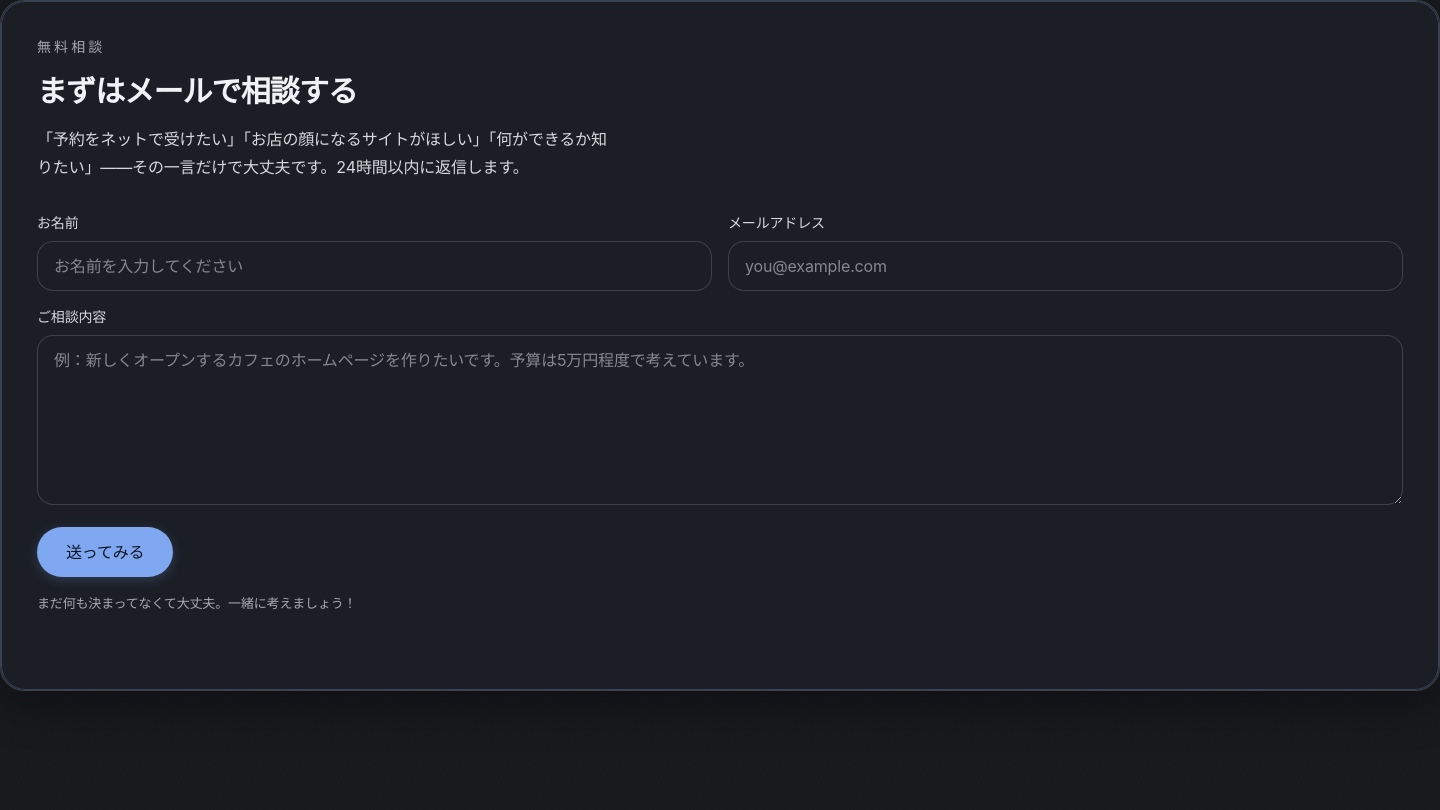
Test: ContactForm › Succesffully sent bolson uyd API ruu aguulgiig uvuulj , Success message haruulj baigaa eseh.
Type "山田太郎" into the field labelled "お名前" at coordinates (374, 266), box x1=37 y1=241 x2=712 y2=291
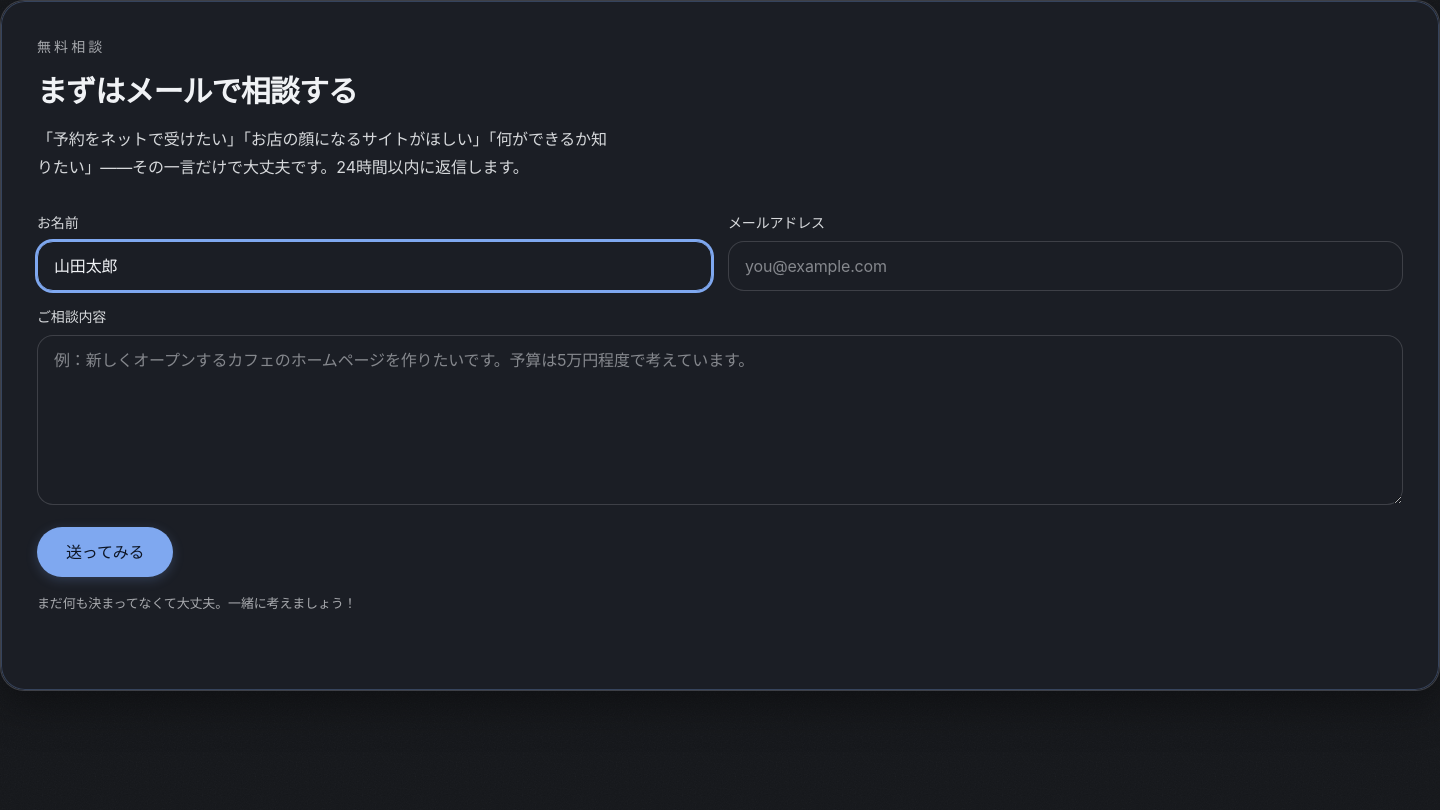
Type "test@example.com" into the field labelled "メールアドレス" at coordinates (1066, 266), box x1=728 y1=241 x2=1403 y2=291
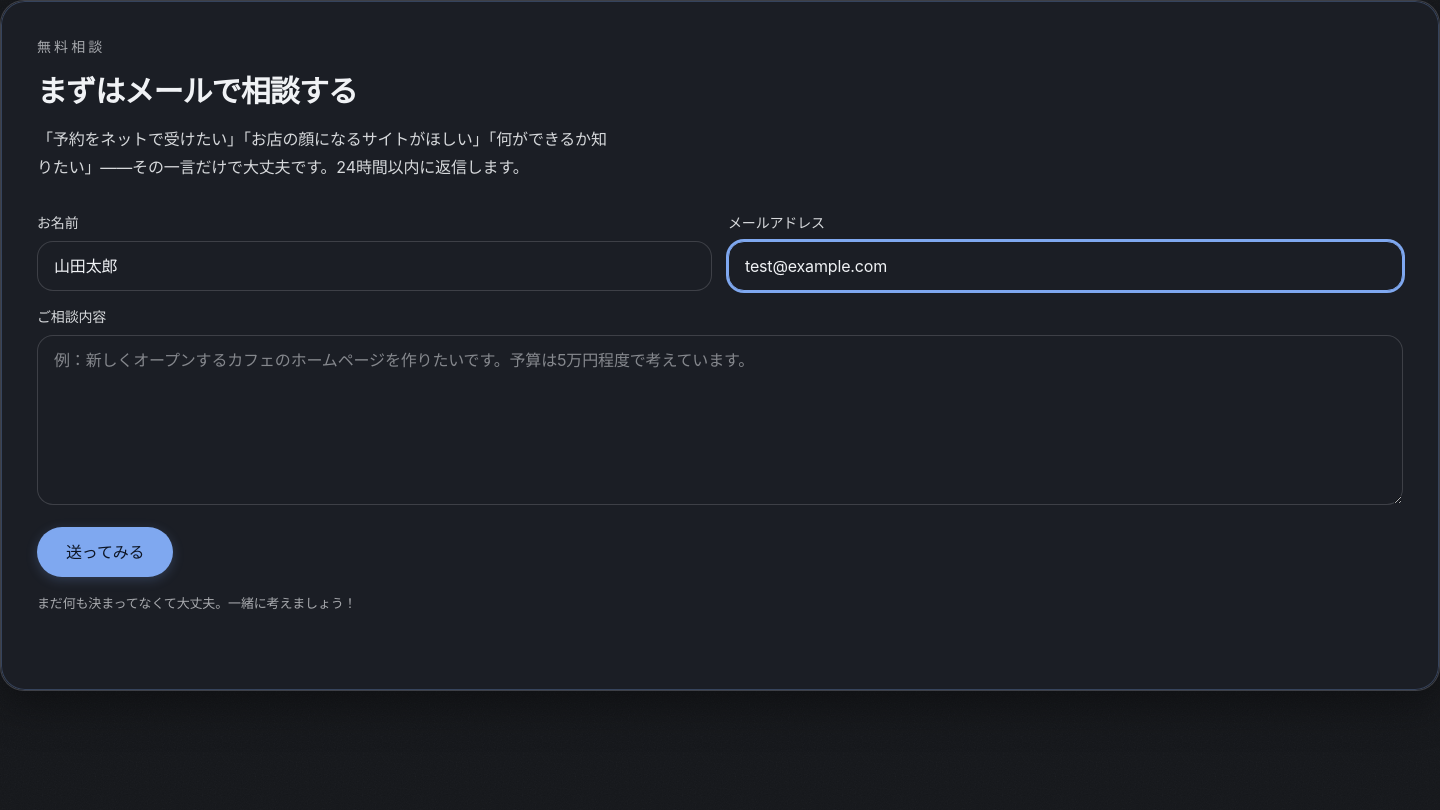
Type "お問い合わせ内容です" into the text box labelled "ご相談内容" at coordinates (720, 420), box x1=37 y1=335 x2=1403 y2=505
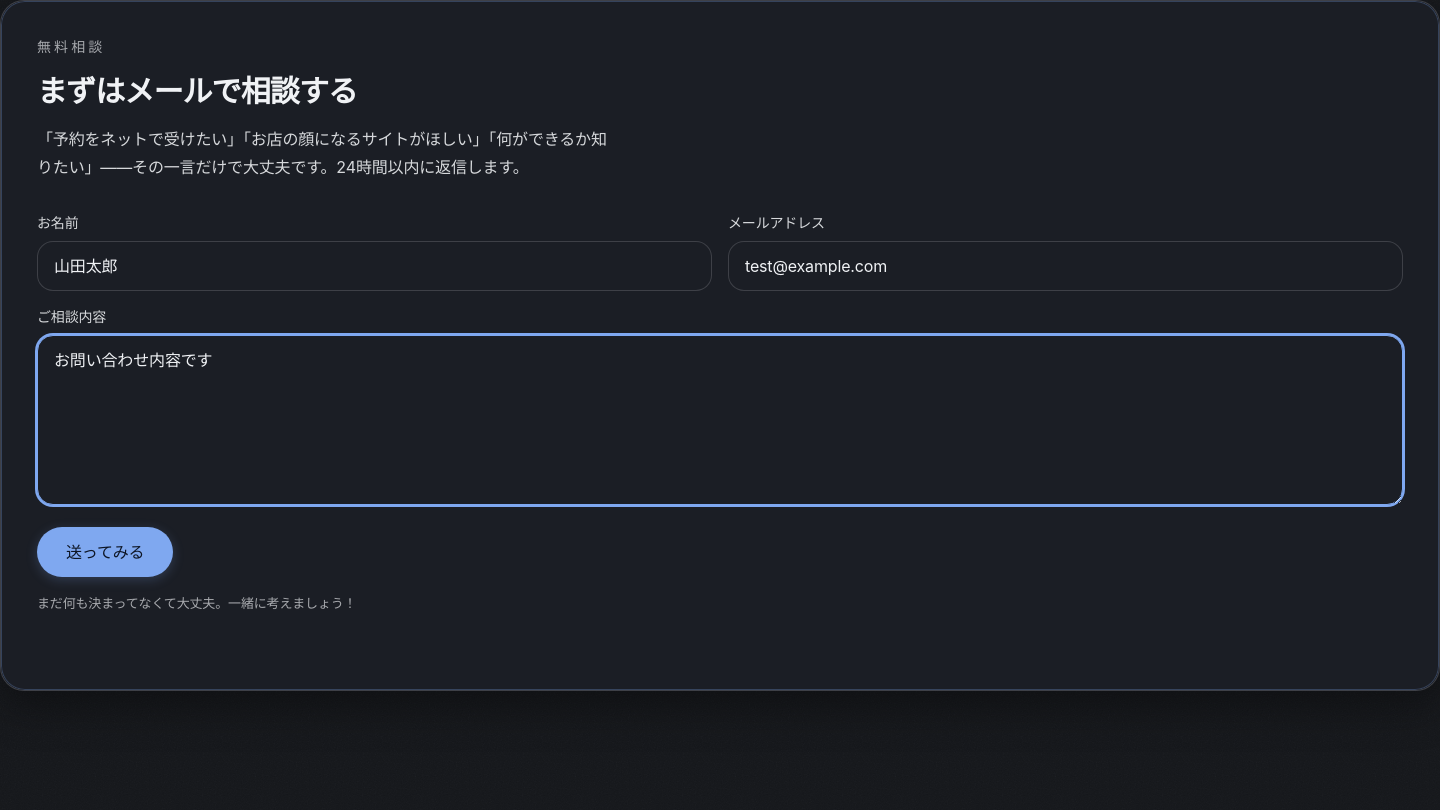
Click the button "送ってみる" at coordinates (105, 552), box x1=37 y1=527 x2=173 y2=577
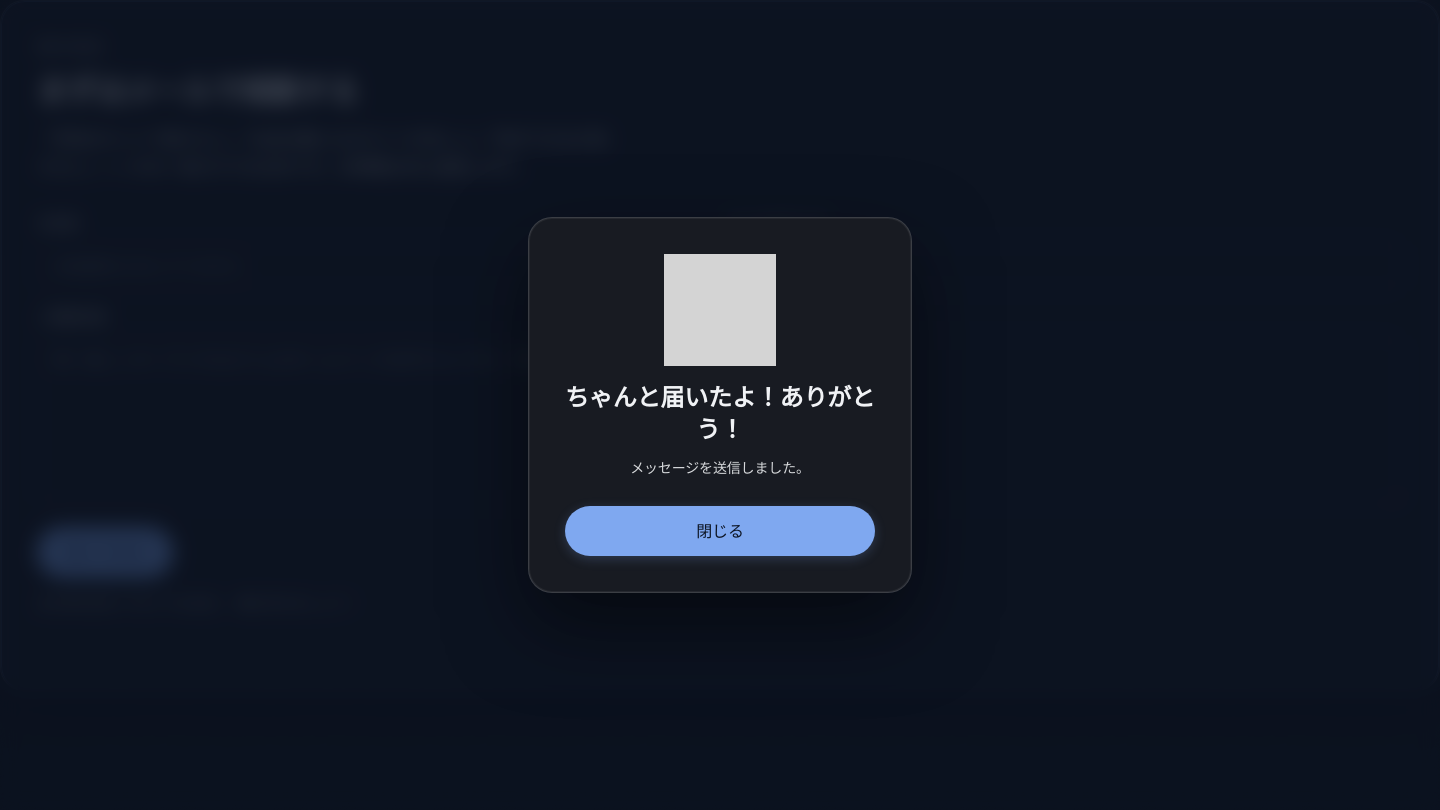
Result: the text "メッセージを送信しました。" is shown at x1=630 y1=459 x2=810 y2=476
